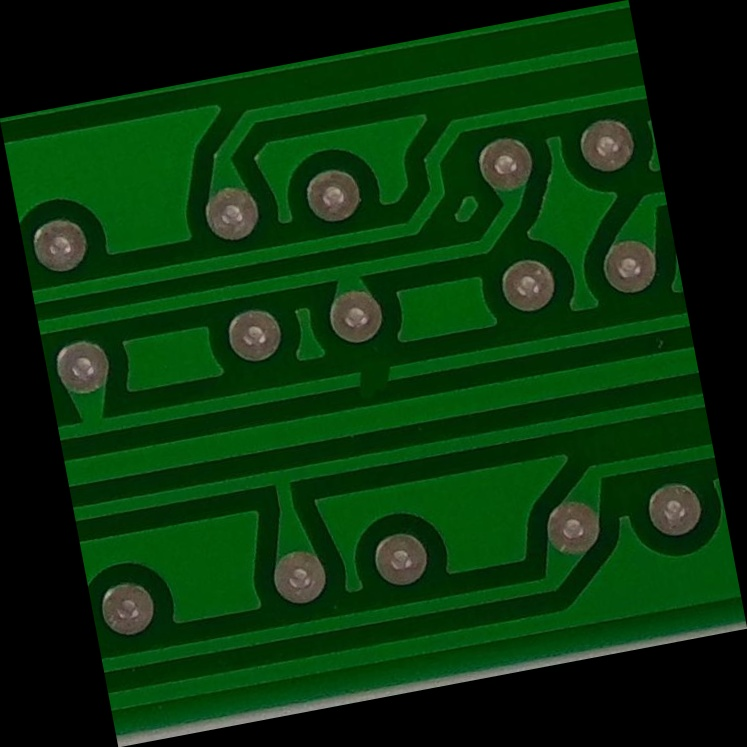open_circuit: (343, 350, 406, 397)
